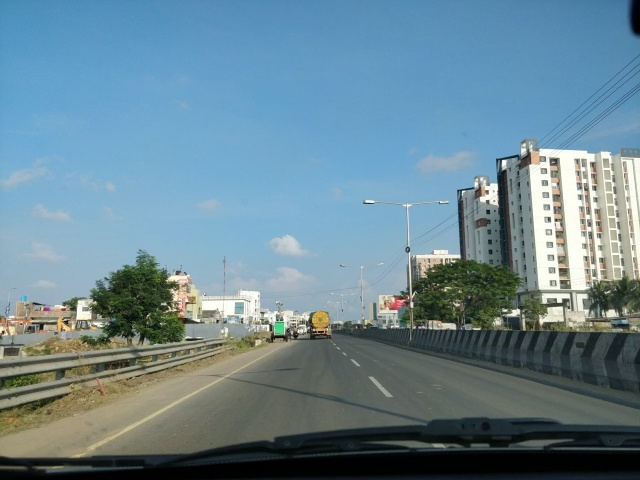motorbike: (293, 326, 298, 338)
truck: (309, 313, 333, 338)
